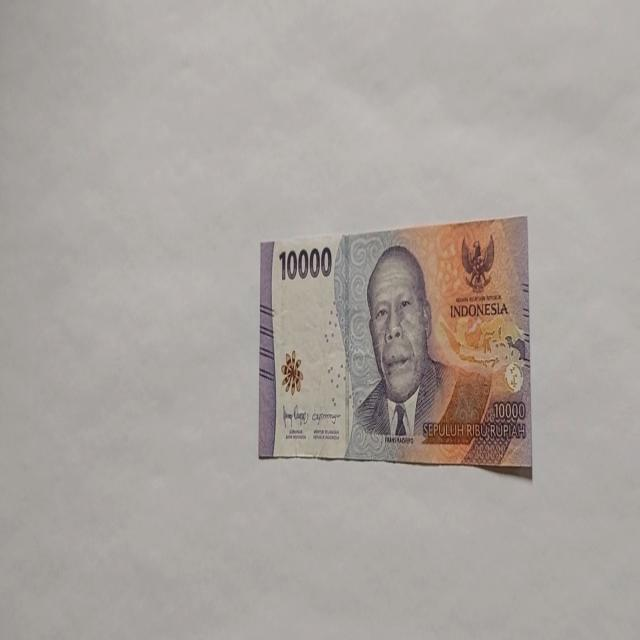sepuluh ribu rupiah: (258, 215, 532, 474), (350, 242, 452, 442)
